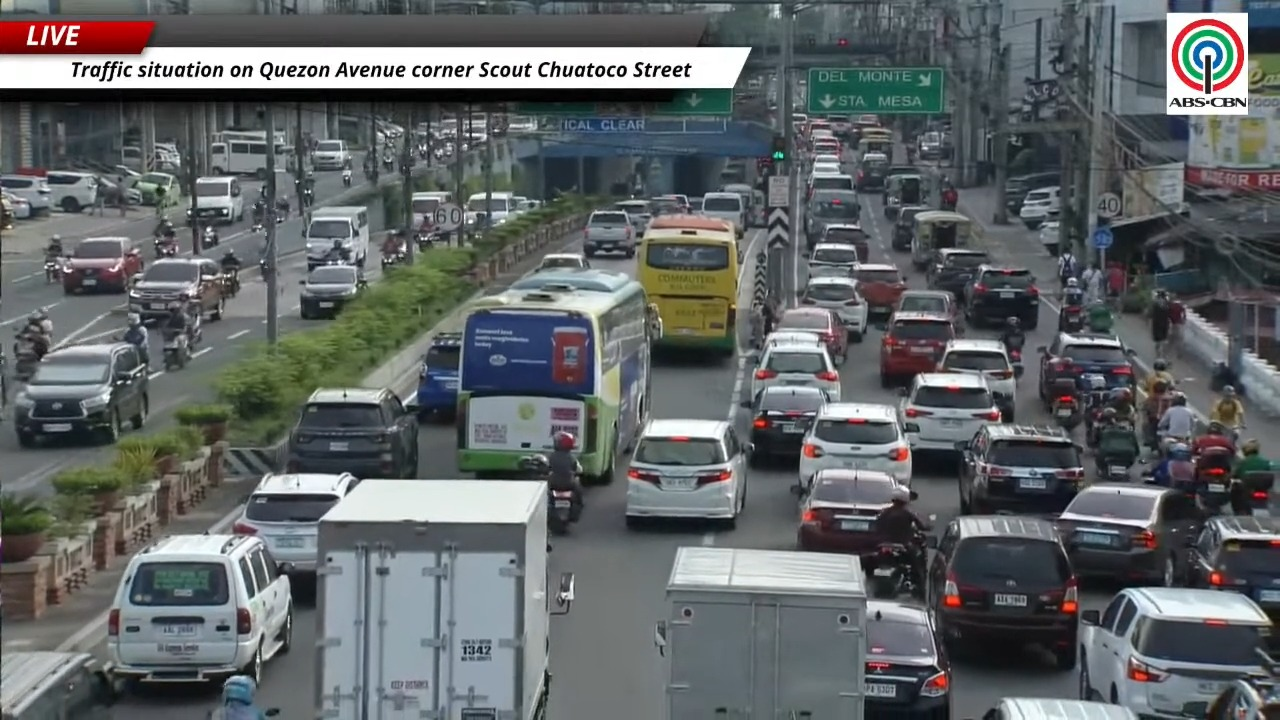bus: (456, 270, 655, 483), (637, 216, 739, 355), (210, 130, 266, 179)
car: (106, 534, 293, 682), (1079, 588, 1270, 717), (926, 515, 1079, 669), (1057, 482, 1202, 586), (12, 343, 149, 447), (625, 419, 752, 527), (232, 473, 358, 573), (286, 388, 418, 478), (957, 422, 1085, 514), (1183, 516, 1279, 626), (797, 469, 900, 570), (864, 601, 951, 719), (798, 403, 911, 485), (0, 650, 119, 719), (899, 373, 1000, 453), (1037, 333, 1135, 407), (938, 339, 1020, 422), (743, 386, 828, 464), (128, 257, 225, 319), (879, 311, 955, 387), (751, 343, 839, 401), (1206, 651, 1279, 719), (964, 265, 1040, 329), (61, 237, 143, 293), (800, 276, 868, 342), (773, 306, 847, 364), (416, 332, 461, 419), (299, 264, 367, 318), (982, 697, 1138, 719), (804, 190, 860, 250), (926, 248, 991, 299), (893, 289, 962, 333), (853, 263, 906, 316), (583, 210, 636, 257), (1006, 171, 1060, 212), (45, 171, 98, 212), (0, 174, 50, 215), (890, 205, 931, 251), (1019, 186, 1060, 230), (808, 242, 858, 276), (134, 172, 182, 205), (613, 198, 652, 236), (819, 223, 868, 252), (762, 330, 824, 351), (98, 174, 138, 206), (311, 138, 352, 169), (855, 153, 888, 191), (807, 173, 855, 194), (0, 191, 33, 218), (650, 194, 690, 216), (1038, 220, 1059, 256), (813, 136, 842, 157), (812, 153, 841, 164), (689, 197, 703, 212)
motorcycle: (871, 543, 922, 599), (1194, 449, 1233, 513), (1231, 471, 1274, 511), (1050, 378, 1082, 431), (1083, 390, 1109, 447), (548, 491, 574, 535), (1098, 453, 1137, 480), (13, 339, 38, 381), (1001, 332, 1025, 375), (163, 332, 190, 370), (1059, 305, 1085, 333), (220, 268, 240, 297), (154, 237, 179, 259), (381, 248, 407, 269), (414, 231, 438, 250), (201, 226, 220, 249), (44, 257, 61, 282), (275, 198, 291, 223), (321, 252, 349, 265), (301, 187, 313, 208), (382, 154, 394, 171), (342, 168, 352, 188), (259, 260, 268, 281), (417, 144, 429, 158)
truck: (314, 479, 573, 719), (654, 546, 867, 719)
